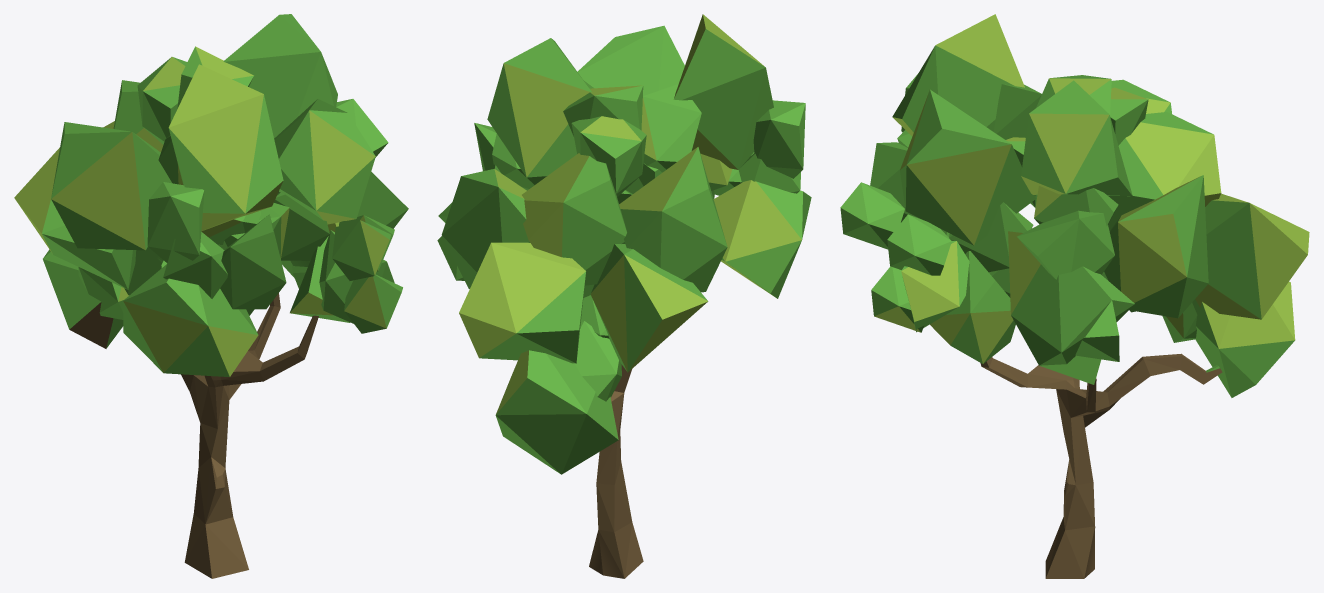
The model's file is tree2.fbx.
The picture shows the model from 3 angles, left to right: view 1: azimuth 30°, elevation 25°; view 2: azimuth 150°, elevation 25°; view 3: azimuth 270°, elevation 25°; orthographic projection. The views are drawn at different scales.
Visible parts, largest first — view 1: tree2; view 2: tree2; view 3: tree2.
Boxes of the visible parts, box(x1,y1,x2,y2) form: tree2: box(14, 14, 408, 578); tree2: box(437, 14, 811, 578); tree2: box(840, 14, 1309, 578).
Size of the model in its own units: 71.95 by 113 by 90.47.
